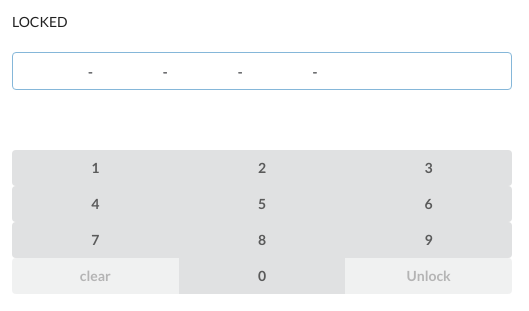
Test case: To clear your entry, you can press “Clear” button
Expected: the button "clear" is disabled, [12, 258, 179, 294]
Type "999" into the password field with placeholder "----".
click(262, 71); type("999")  # box [12, 52, 512, 90]
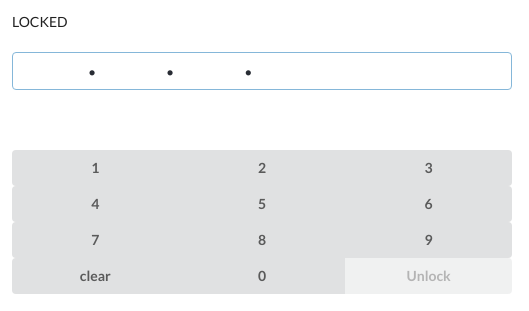
Result: the button "clear" is enabled
Click the button "clear".
click(95, 276)  # box [12, 258, 179, 294]
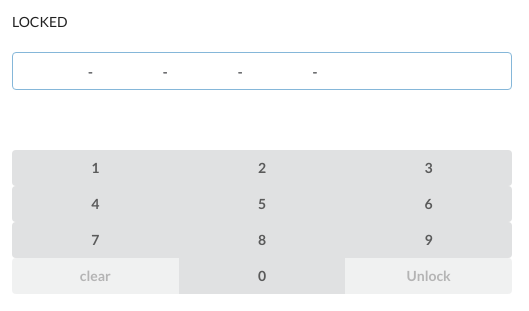
Result: the button "clear" is disabled at [12, 258, 179, 294]
Result: the password field with placeholder "----" is empty at [12, 52, 512, 90]
